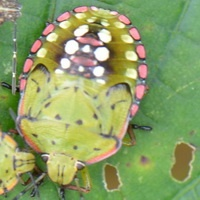insect: (0, 6, 147, 199)
